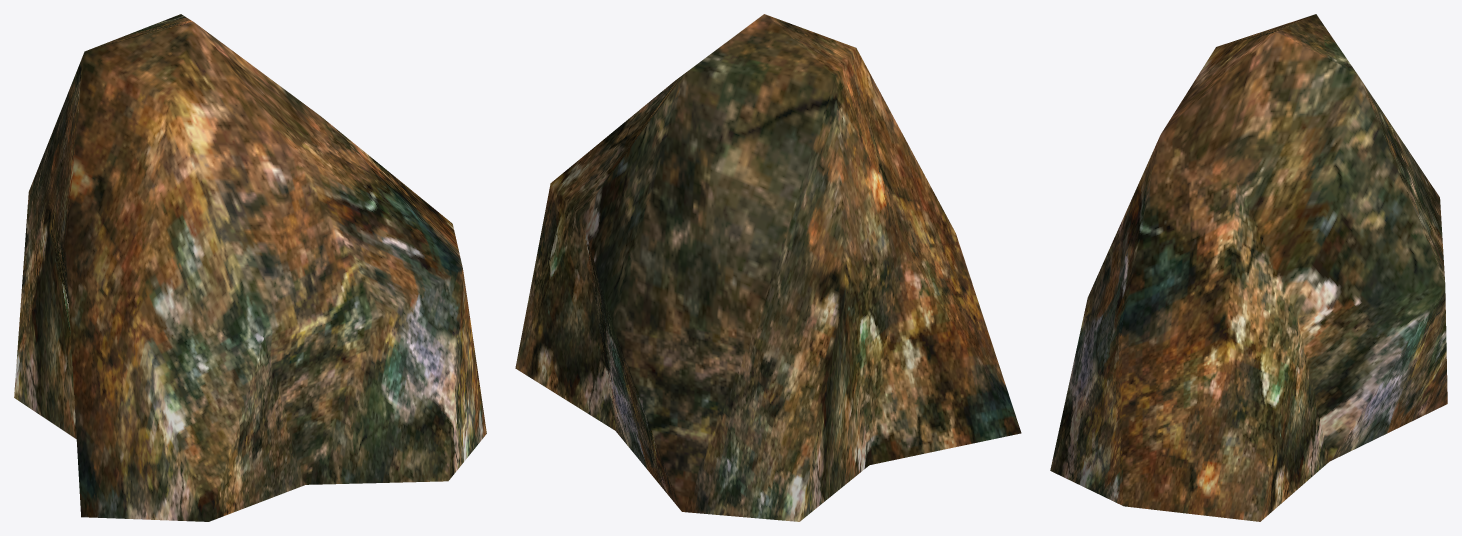
The model's file is c_stone04.glb.
3 renders of one model, left to right at view 1: azimuth 30°, elevation 25°; view 2: azimuth 150°, elevation 25°; view 3: azimuth 270°, elevation 25°, orthographic. The views are drawn at different scales.
Visible parts, largest first — view 1: c_stone04-col; view 2: c_stone04-col; view 3: c_stone04-col.
Boxes of the visible parts, x1,y1,x2,y2 form: c_stone04-col: (14, 14, 486, 521); c_stone04-col: (515, 14, 1021, 521); c_stone04-col: (1050, 14, 1447, 521).
Bounding box in the file's own units: 1.47 × 1.33 × 1.27.
1 material, 1 textured.
